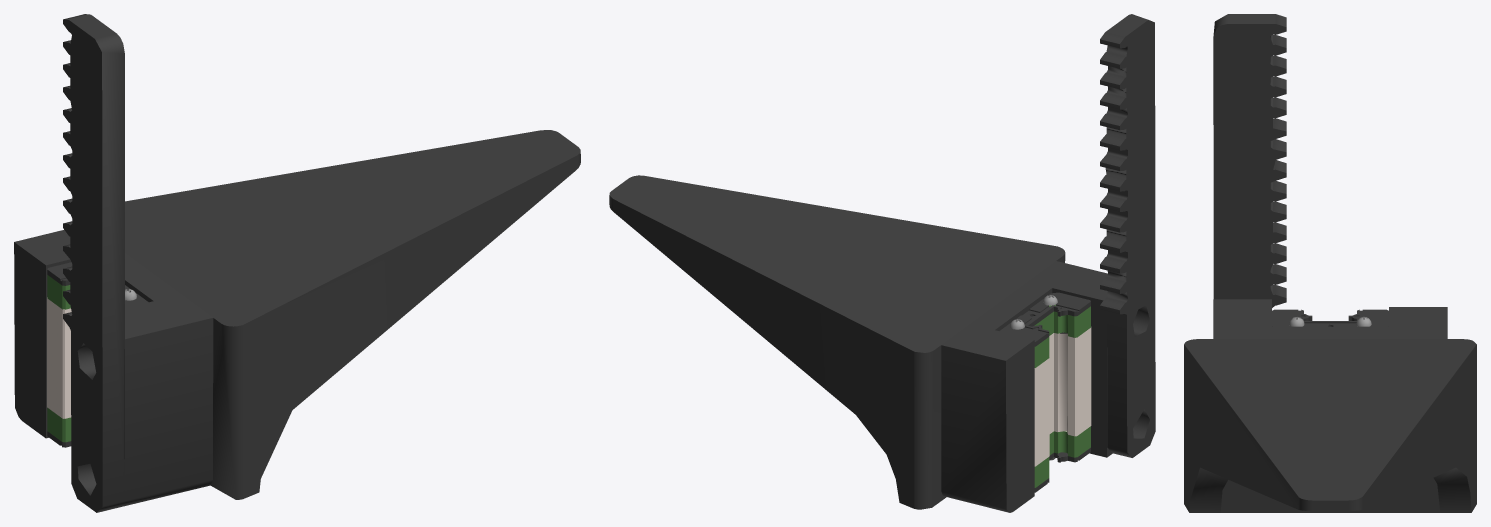
Rendered from finger_right.glb.
3 renders of one model, left to right at view 1: azimuth 30°, elevation 25°; view 2: azimuth 150°, elevation 25°; view 3: azimuth 270°, elevation 25°, orthographic. The views are drawn at different scales.
Parts seen in each view (by area): view 1: Finger v0.2 v2, Zahnstange v0.2 v003, FingerAdapter v0.2 v4, Component9; view 2: Finger v0.2 v2, FingerAdapter v0.2 v4, Zahnstange v0.2 v003, Component9, Component6, Component5, Component004; view 3: Finger v0.2 v2, Zahnstange v0.2 v003, FingerAdapter v0.2 v4, Component6.
Part boxes in pixels (box(x1,y1,x2,y2)): Finger v0.2 v2: box(125, 130, 580, 499); Zahnstange v0.2 v003: box(63, 14, 124, 512); FingerAdapter v0.2 v4: box(14, 230, 213, 507); Component9: box(47, 297, 71, 418); Finger v0.2 v2: box(609, 175, 1065, 509); FingerAdapter v0.2 v4: box(941, 261, 1112, 512); Zahnstange v0.2 v003: box(1100, 14, 1155, 457); Component9: box(1034, 327, 1091, 466); Component6: box(999, 292, 1090, 346); Component5: box(1034, 305, 1090, 367); Component004: box(1034, 426, 1090, 487); Finger v0.2 v2: box(1184, 339, 1476, 512); Zahnstange v0.2 v003: box(1213, 14, 1286, 307); FingerAdapter v0.2 v4: box(1213, 299, 1447, 338); Component6: box(1272, 309, 1388, 326).
Bounding box in the file's own units: 0.096 × 0.0827 × 0.05.
